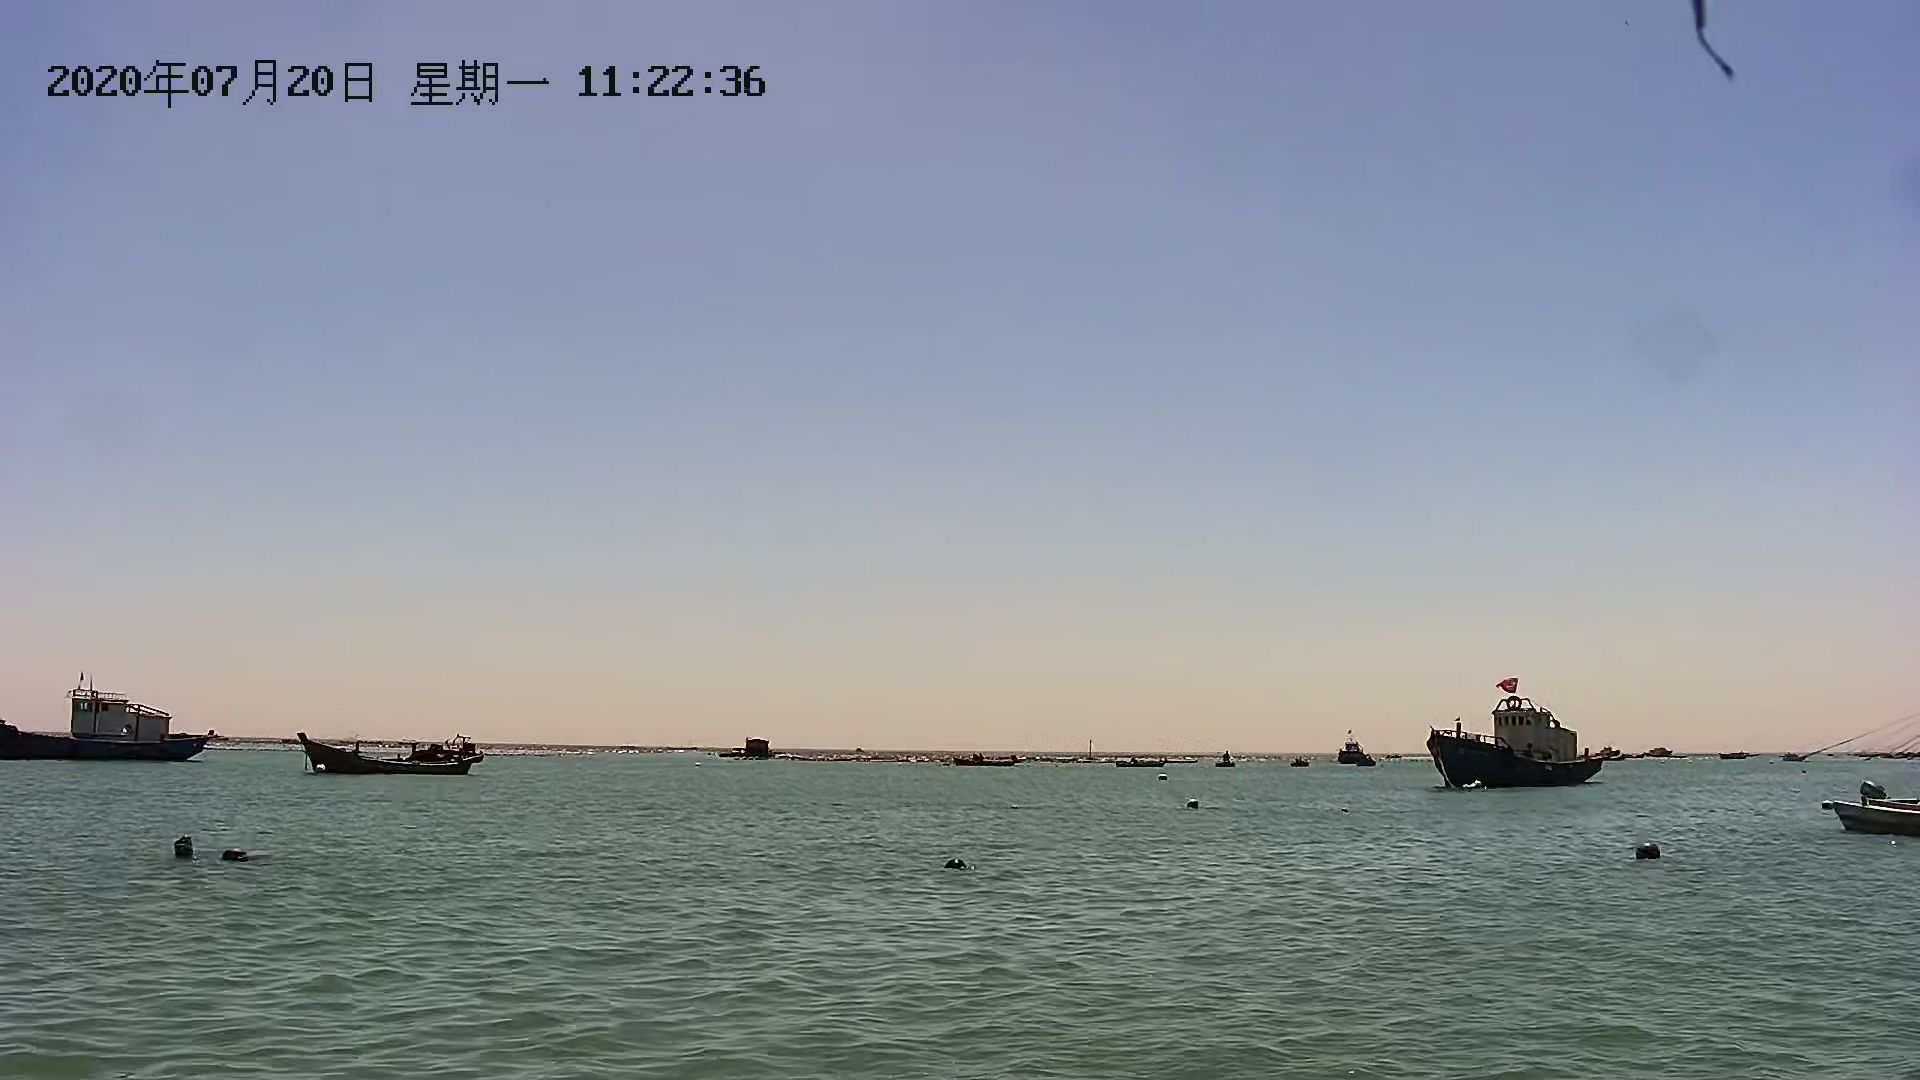ball: (162, 828, 207, 858), (1633, 835, 1669, 861), (934, 856, 976, 878), (214, 841, 251, 866), (1178, 796, 1215, 814)
boat: (1, 687, 219, 771), (1424, 691, 1601, 794), (293, 729, 497, 775), (1828, 775, 1920, 856)
platform: (1337, 731, 1385, 767), (732, 737, 781, 764)
